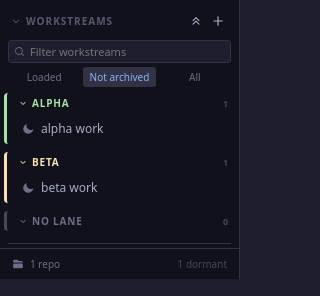
Test: workstream list search and lanes › hides lanes with no matches while searching
Step 1. Type "alpha" into the field with test id "ws-search-input" → (120, 52), box top-left (8, 40), bottom-right (231, 63)
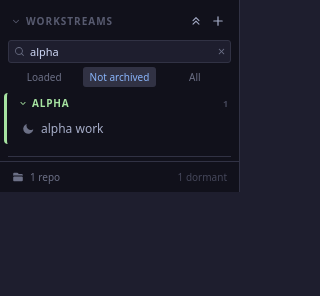
Check: the element with test id "ws-lane-l1" is shown, box top-left (4, 93), bottom-right (235, 144)
Check: the element with test id "ws-lane-l2" is gone
